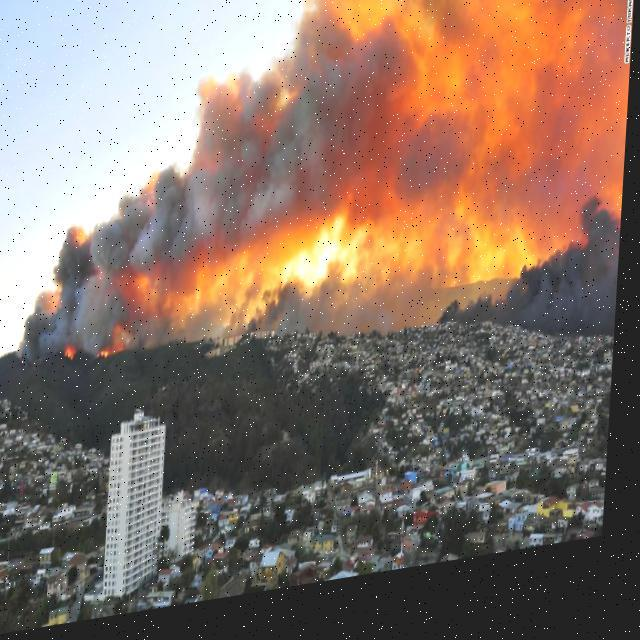Fire: (68, 350, 78, 366), (101, 353, 114, 365)
